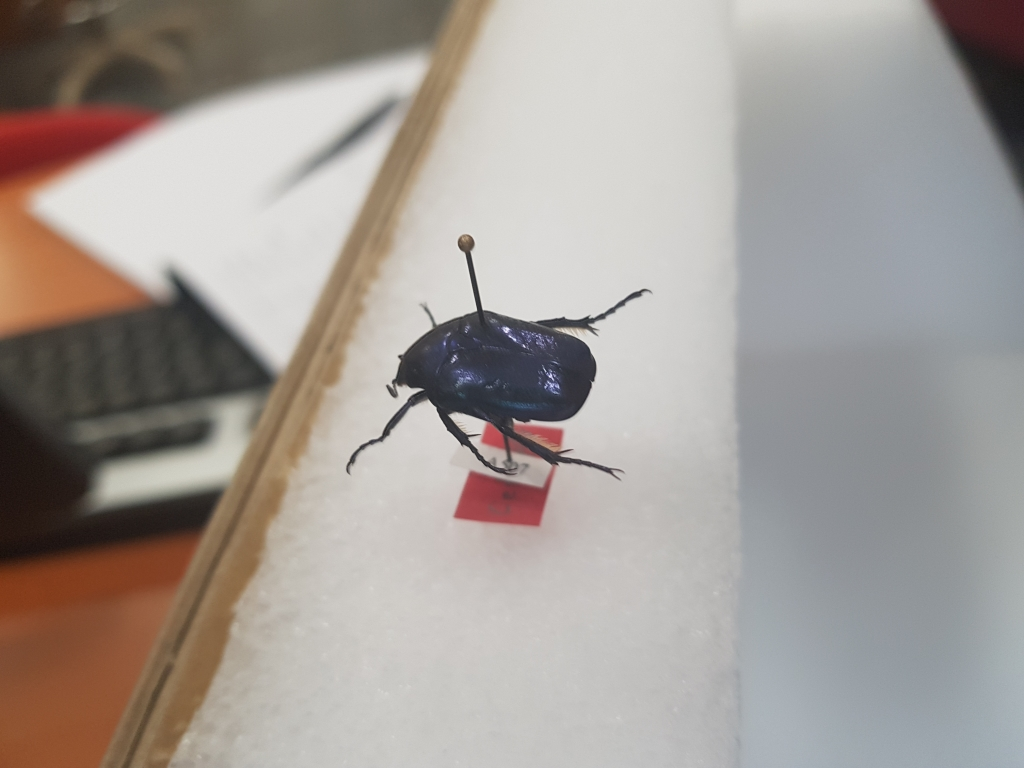Protaetia_besucheti: (334, 285, 660, 504)
